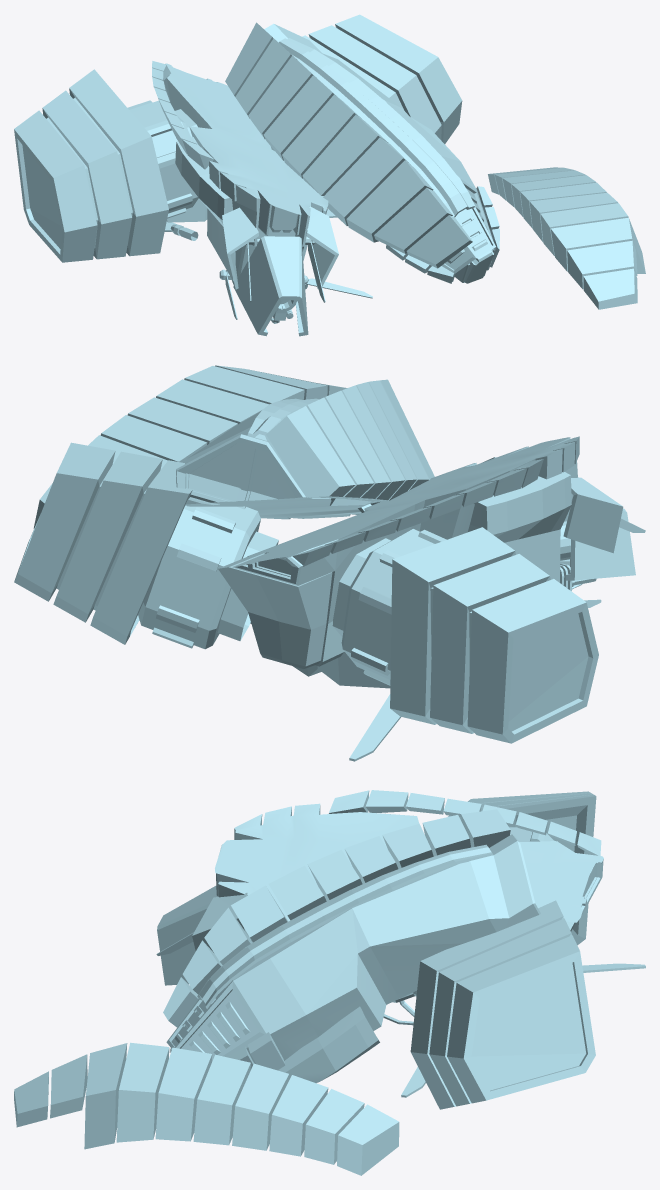
The model's file is grounded drone broken.fbx.
3 views of the same model, one above another, from view 1: azimuth 30°, elevation 25°; view 2: azimuth 150°, elevation 25°; view 3: azimuth 270°, elevation 25° (orthographic). The views are drawn at different scales.
Visible parts, largest first — view 1: Drone_grounded_5, Drone_grounded_1, Drone_grounded_2, Drone_grounded_3, Drone_grounded_4; view 2: Drone_grounded_5, Drone_grounded_3, Drone_grounded_1, Drone_grounded_2, Drone_grounded_4; view 3: Drone_grounded_1, Drone_grounded_2, Drone_grounded_3, Drone_grounded_5, Drone_grounded_4.
Part boxes in pixels (box(x1,y1,x2,y2)): Drone_grounded_5: box(14, 61, 338, 336); Drone_grounded_1: box(225, 22, 499, 283); Drone_grounded_2: box(488, 167, 645, 309); Drone_grounded_3: box(271, 14, 462, 150); Drone_grounded_4: box(164, 209, 372, 319); Drone_grounded_5: box(218, 436, 645, 743); Drone_grounded_3: box(14, 442, 278, 649); Drone_grounded_1: box(176, 379, 434, 519); Drone_grounded_2: box(33, 365, 347, 528); Drone_grounded_4: box(250, 599, 601, 761); Drone_grounded_1: box(163, 809, 540, 1083); Drone_grounded_2: box(14, 1042, 399, 1175); Drone_grounded_3: box(410, 900, 595, 1109); Drone_grounded_5: box(156, 790, 603, 1025); Drone_grounded_4: box(401, 963, 645, 1097).
Bounding box in the file's own units: 242 × 101 × 241.
